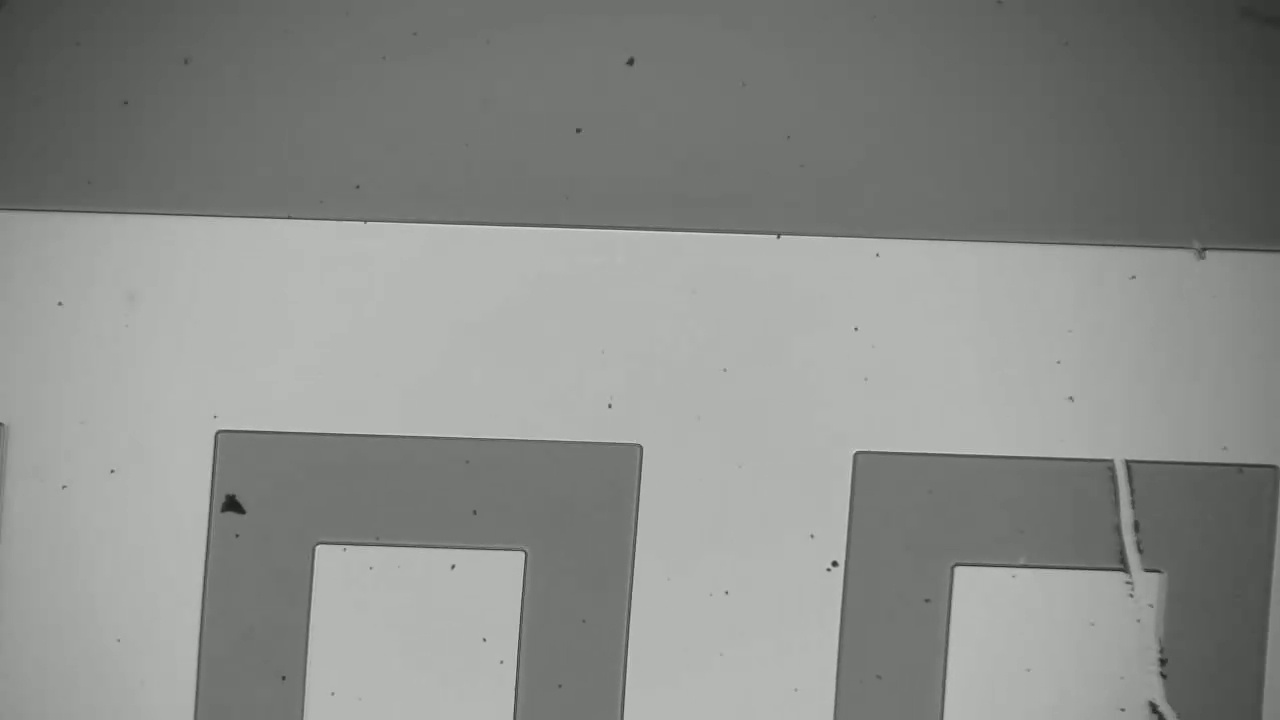Short_circuit: (1081, 440, 1183, 597)
